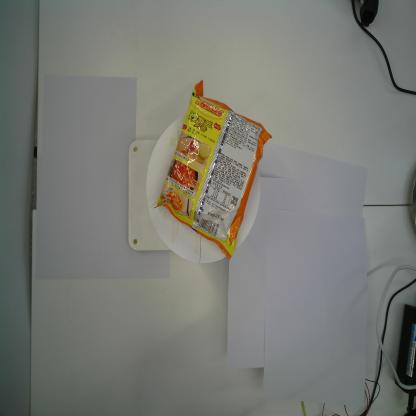Instant Noodles: (152, 80, 272, 261)
